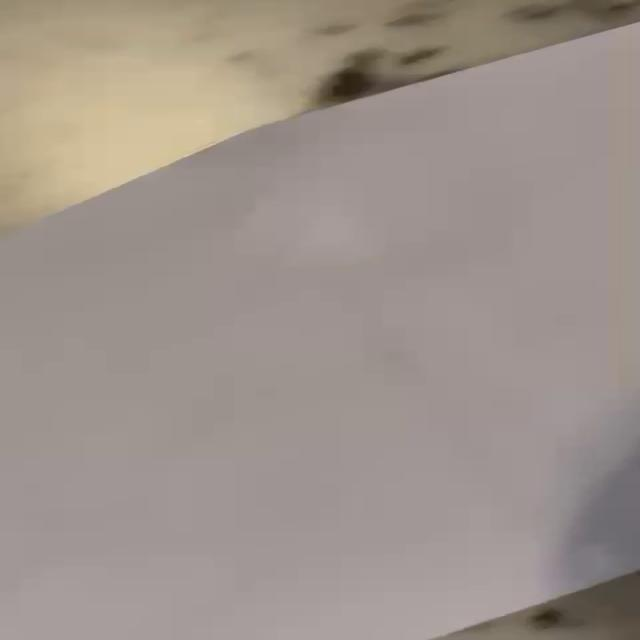road: (0, 22, 640, 640)
